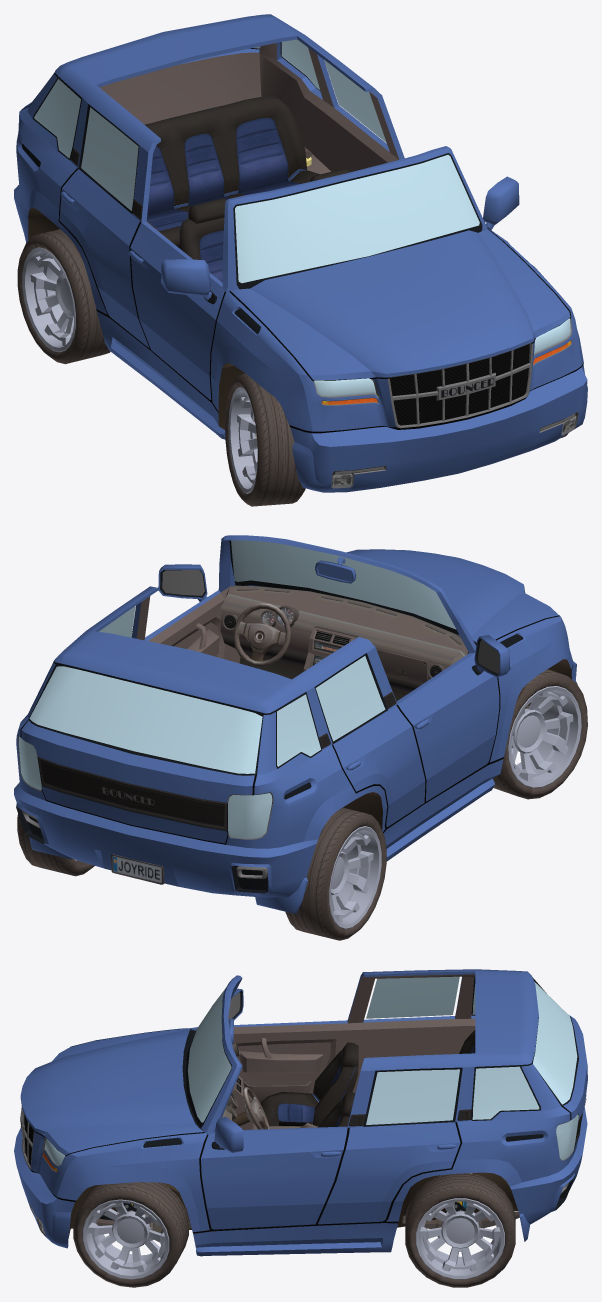
The picture shows the model from 3 angles, top to bottom: view 1: azimuth 30°, elevation 25°; view 2: azimuth 150°, elevation 25°; view 3: azimuth 270°, elevation 25°; orthographic projection. The views are drawn at different scales.
Visible parts, largest first — view 1: node_id790, node_id810, node_id703, node_id788, node_id796, node_id757, node_id746, node_id792, node_id750, node_id794, node_id724, node_id753 (+8 smaller); view 2: node_id790, node_id810, node_id788, node_id753, node_id794, node_id806, node_id746, node_id750, node_id701, node_id728, node_id755, node_id798 (+7 smaller); view 3: node_id790, node_id810, node_id788, node_id760, node_id767, node_id724, node_id764, node_id771, node_id794, node_id762, node_id769, node_id798 (+6 smaller).
Boxes of the visible parts, x1,y1,x2,y2 form: node_id790: (14,14,587,492); node_id810: (34,39,479,283); node_id703: (144,96,319,248); node_id788: (99,43,399,239); node_id796: (389,344,529,425); node_id757: (235,373,305,506); node_id746: (22,247,75,352); node_id792: (313,318,578,488); node_id750: (24,229,110,364); node_id794: (22,42,570,381); node_id724: (179,169,350,282); node_id753: (228,386,257,493); node_id790: (14,535,577,914); node_id810: (29,540,456,773); node_id788: (136,585,468,701); node_id753: (508,686,581,787); node_id794: (16,540,523,893); node_id806: (38,692,396,829); node_id746: (329,826,381,929); node_id750: (285,807,380,940); node_id701: (19,736,272,838); node_id728: (233,603,291,666); node_id755: (504,679,587,795); node_id798: (20,615,572,844); node_id790: (14,969,587,1256); node_id810: (187,976,577,1124); node_id788: (222,974,475,1129); node_id760: (415,1198,504,1279); node_id767: (82,1199,169,1279); node_id724: (260,1042,358,1127); node_id764: (405,1173,515,1287); node_id771: (73,1182,188,1287); node_id794: (46,977,580,1209); node_id762: (409,1193,510,1285); node_id769: (76,1194,174,1285); node_id798: (30,1028,575,1233).
Bounding box in the file's own units: 0.4254 × 0.2994 × 0.7149.
51 materials, 43 textured.
